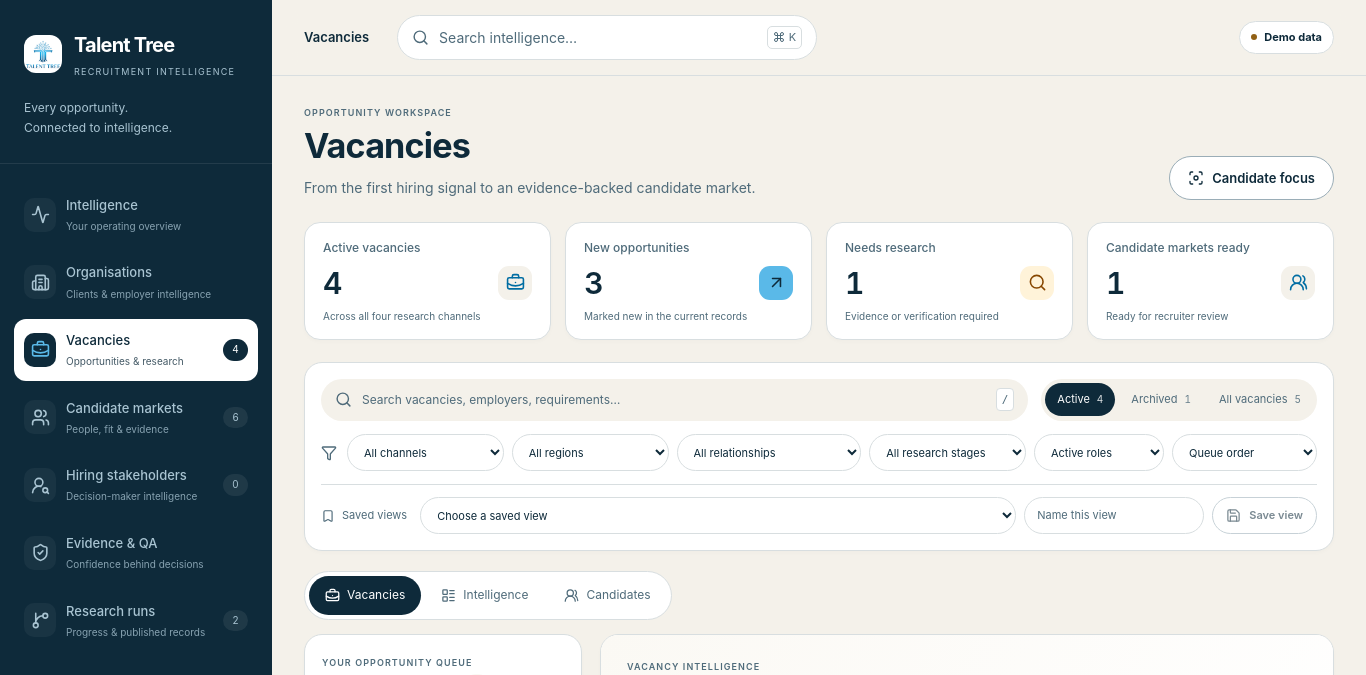
Test: RecruitmentWorkspace — P2 RTL suite (chip / banner / drawer / arrow) › shows a filter chip when channel filter changes
Select "Agreed Clients" in the dropdown named "Filter by channel". click: (425, 453)
box: [347,434,504,471]
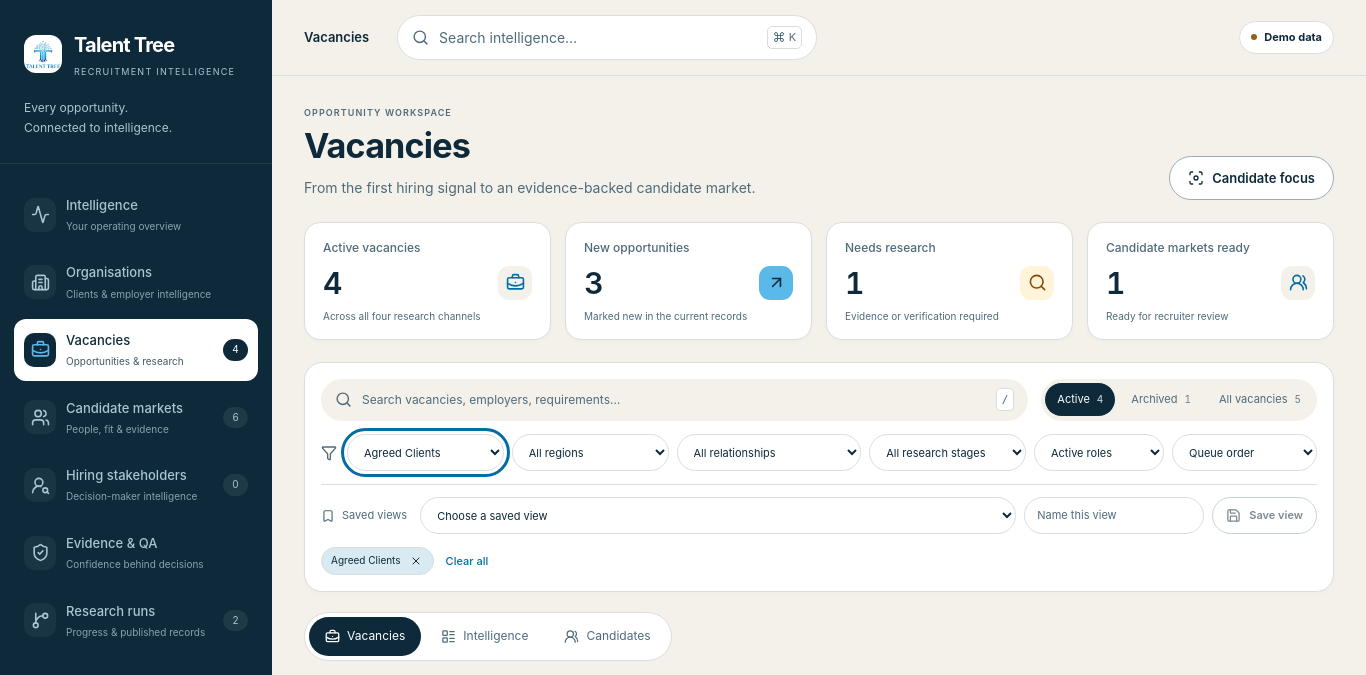
Expected: the text "Agreed Clients" is shown, [321,547,434,575]
